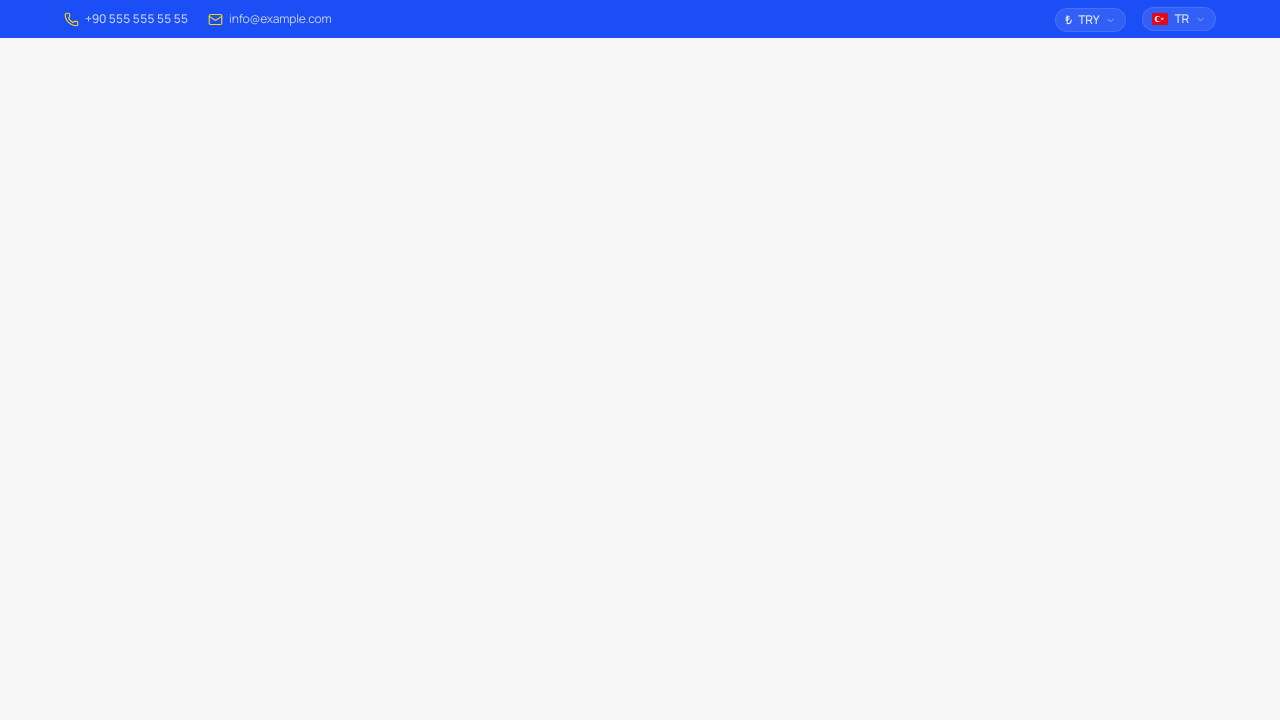
Test: TopBar — Phase 10C dil değiştirici › 18) dropdown açıkken dışarı tıklanınca kapanır (dışa-tık — currency ile AYNI mekanik)
Click the button with aria-label "Dil". click: (1179, 19)
box: [1142,7,1216,31]
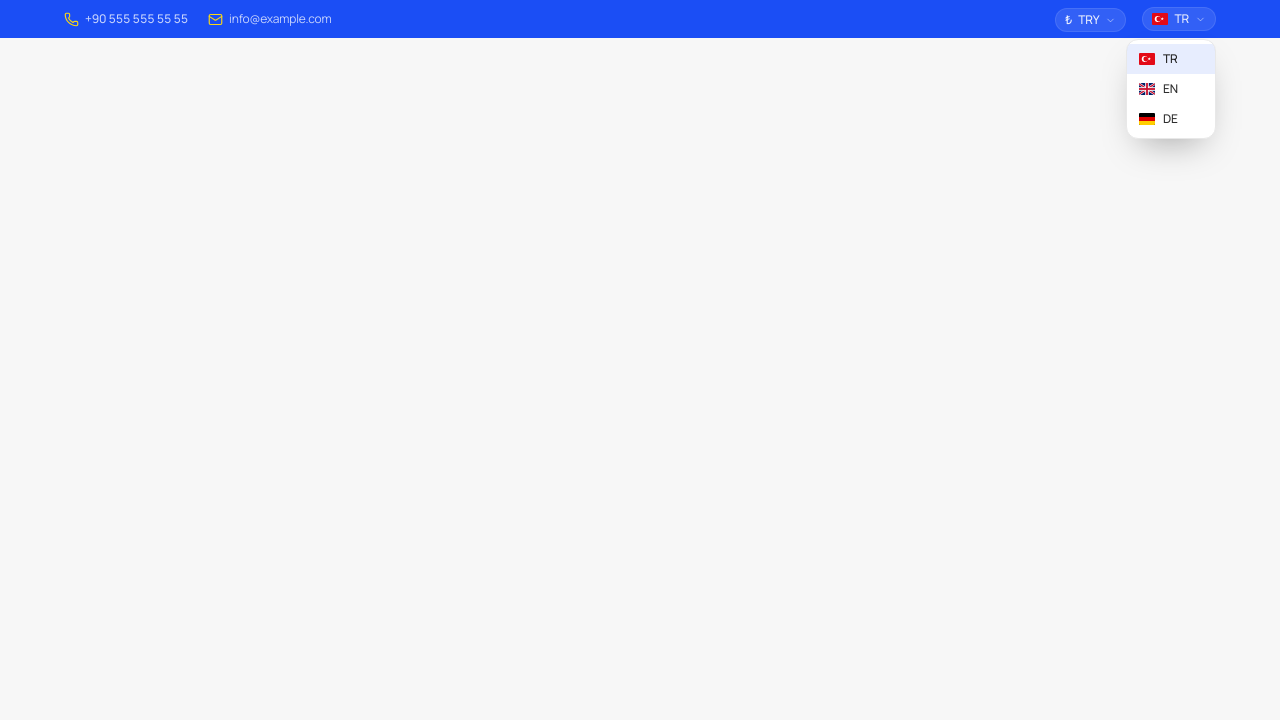
Check: the list named "Dil" is shown, box [1126,39,1216,139]
Press the mouse on the element showing "+90 555 555 55 55 info@example.com ₺ TRY TR TR EN DE" at (640, 360), box [0,0,1279,719]
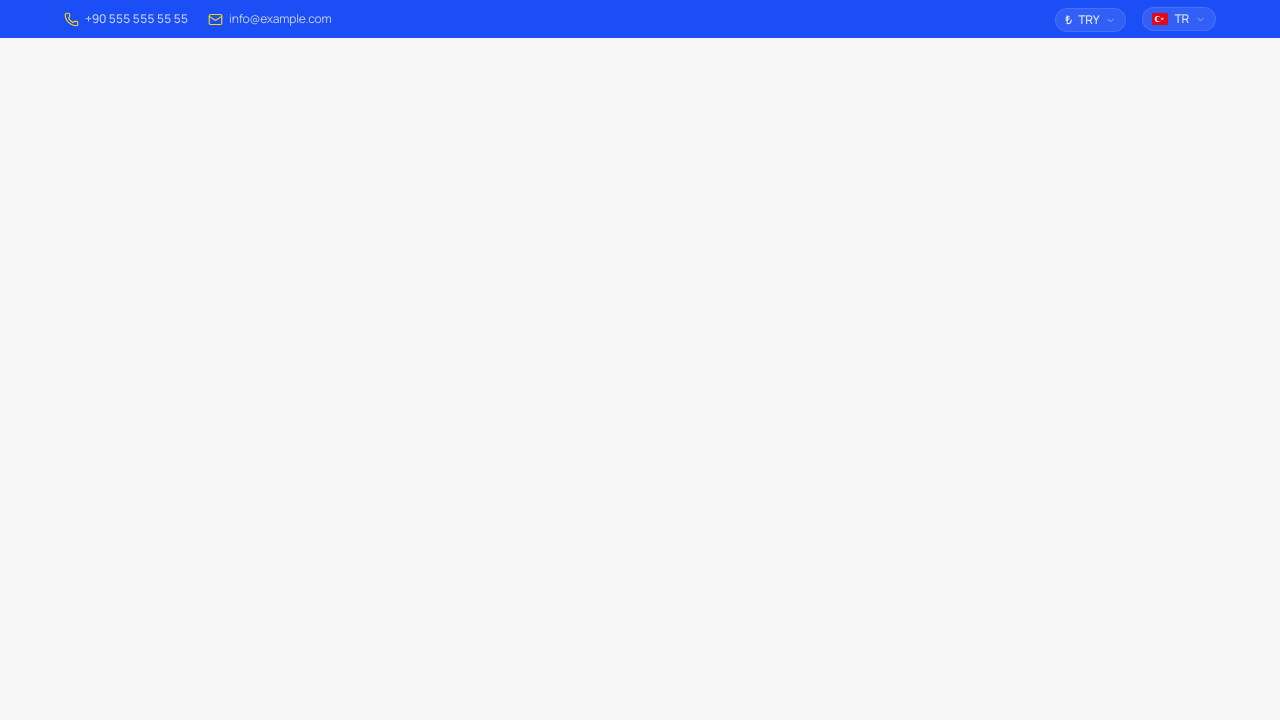
Check: the list "TR EN DE" is gone
